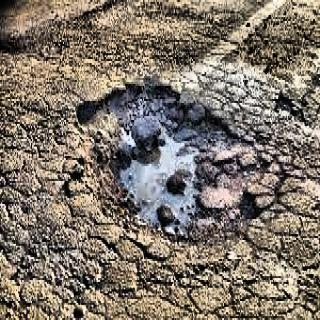alligator-crack: (77, 222, 318, 315), (1, 86, 91, 320), (225, 80, 320, 219)
pothole: (69, 72, 269, 242)
